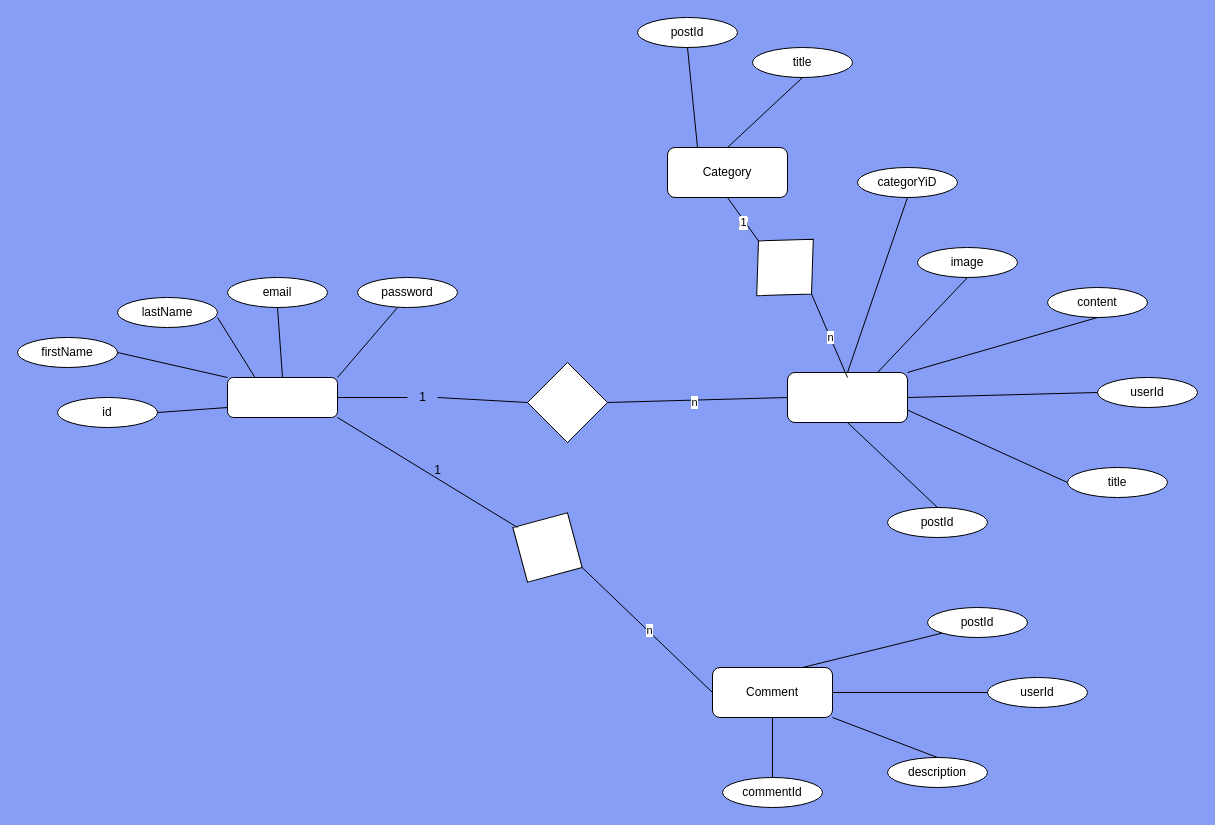
This 1215x825 diagram has some shape labels left out. Each missing label, with the box of its shape:
added: (492, 492, 602, 602)
created: (526, 362, 608, 442)
has: (729, 212, 840, 322)
Post: (786, 372, 908, 422)
User: (226, 376, 338, 418)
